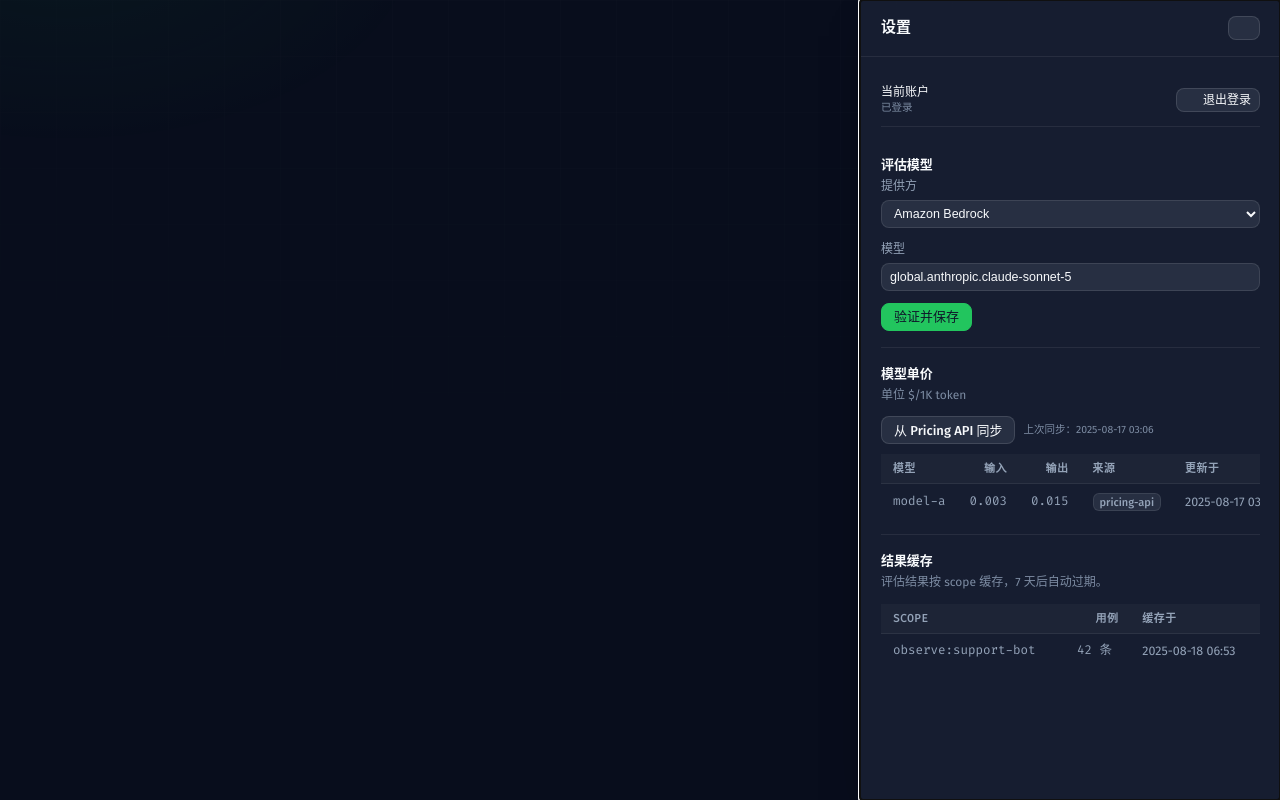
设置抽屉三分节 › set_judge_config 请求体带 config 包裹层
The width and height of the screenshot is (1280, 800).
expect the field with test id "settings-judge-model" is not empty: met, box [881,263,1260,291]
Select "OpenAI 兼容端点" in the dropdown with test id "settings-judge-provider" at (1070, 214), box [881,200,1260,228]
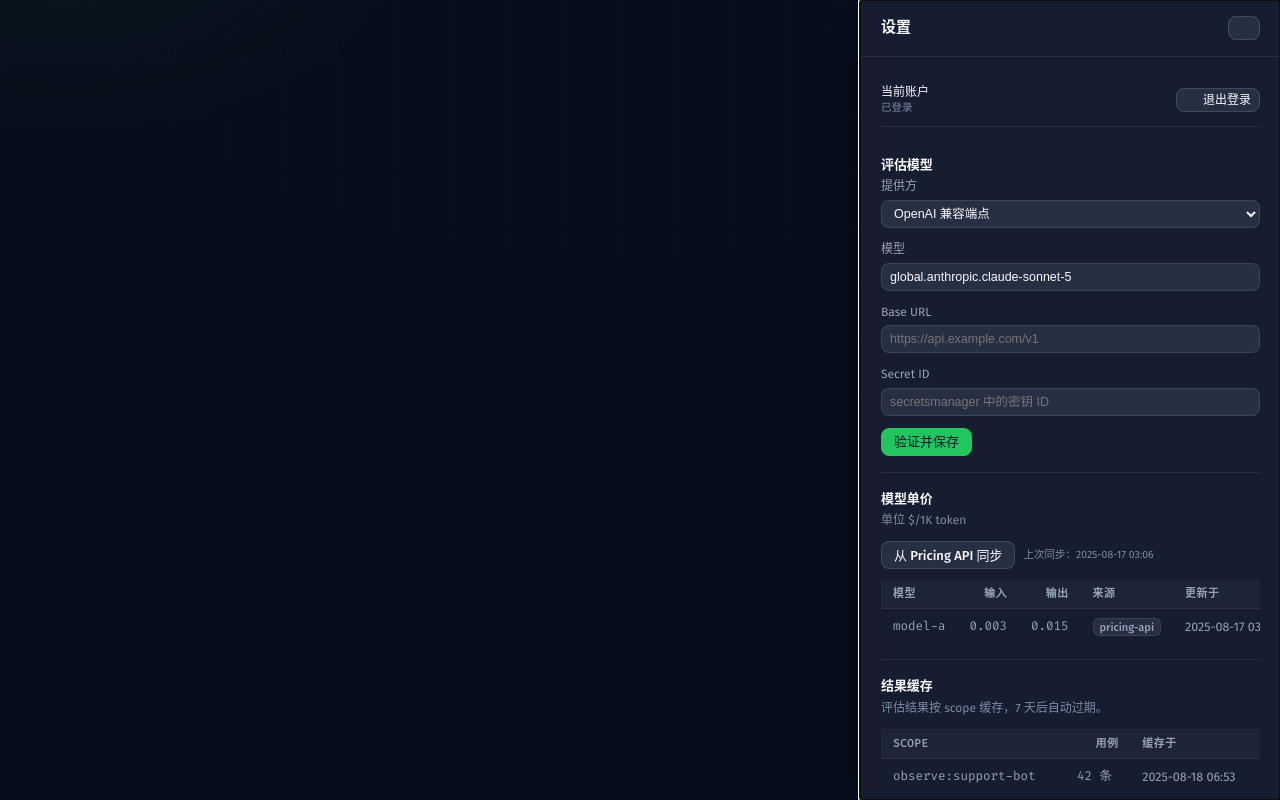
Type "gpt-4o" into the field with test id "settings-judge-model" at (1070, 277), box [881,263,1260,291]
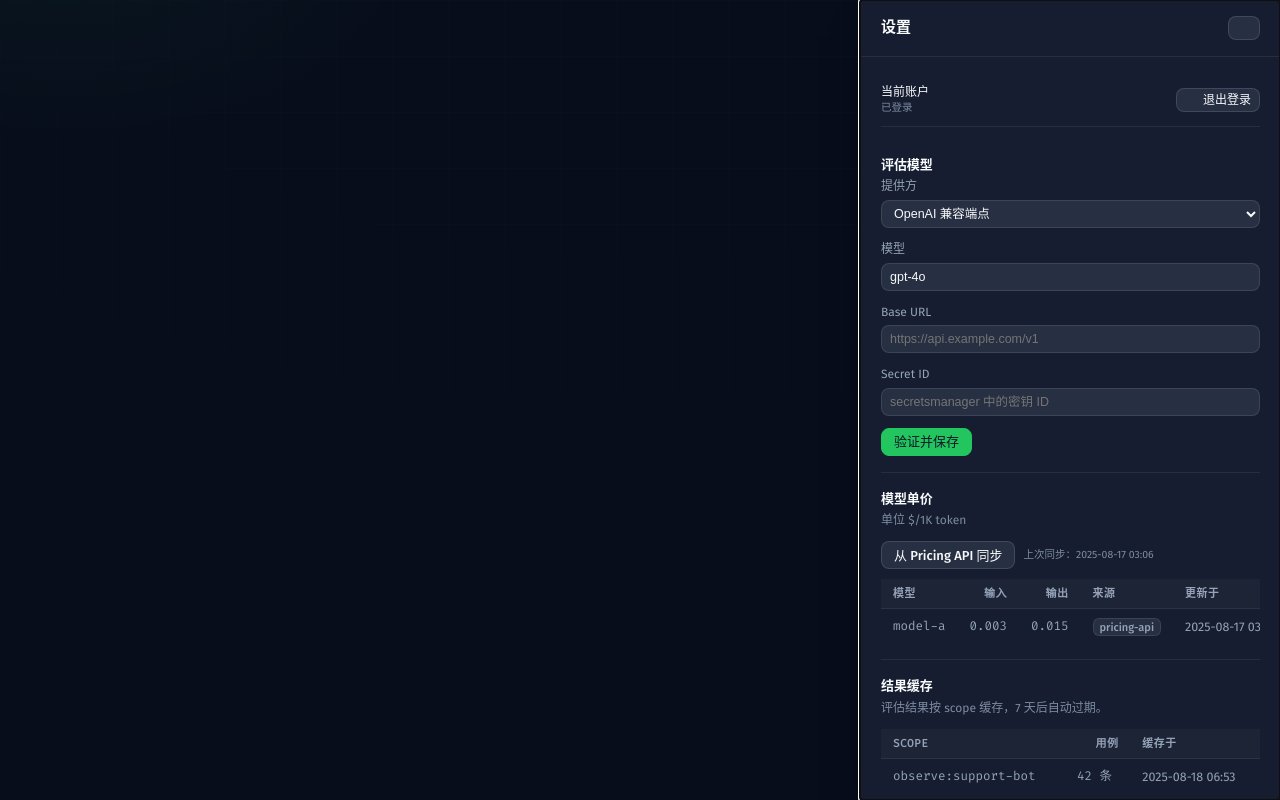
Type "https://x/v1" into the field with test id "settings-judge-base-url" at (1070, 339), box [881,325,1260,353]
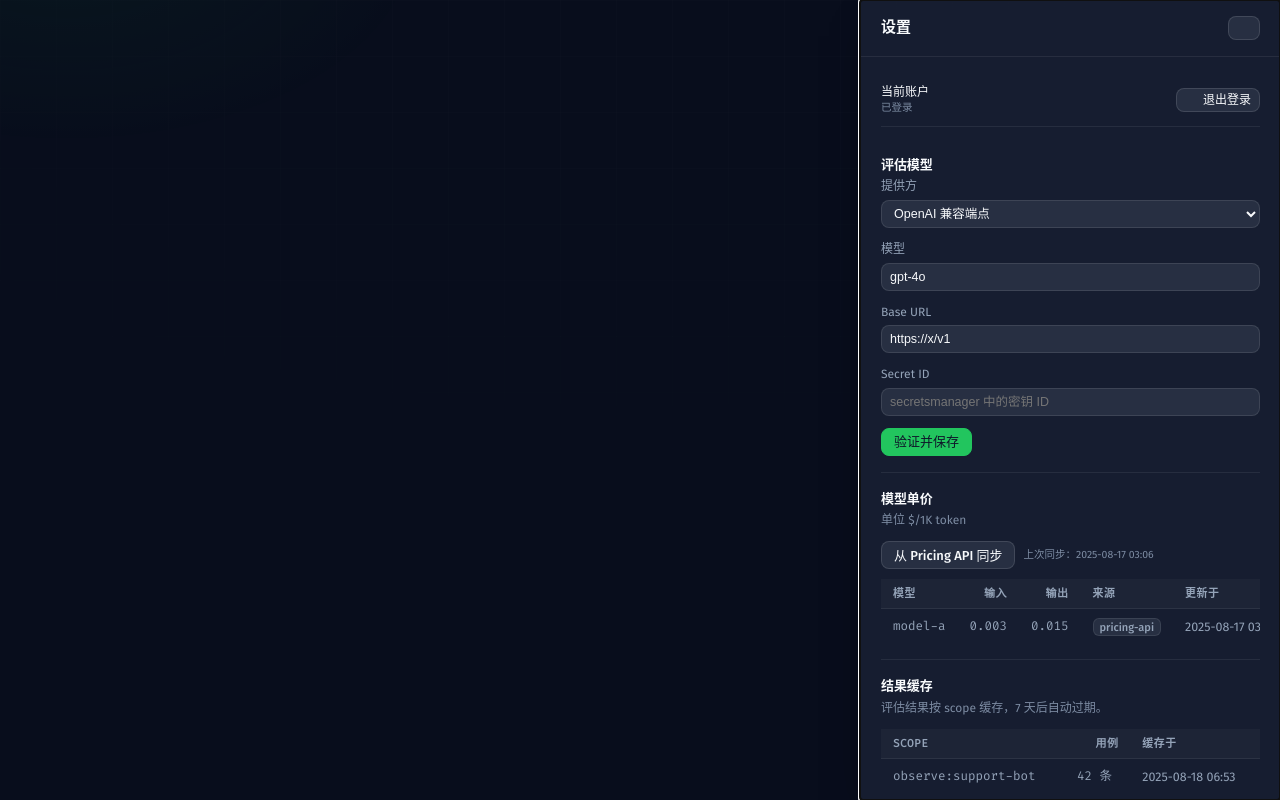
Type "sec-1" into the field with test id "settings-judge-secret-id" at (1070, 402), box [881,388,1260,416]
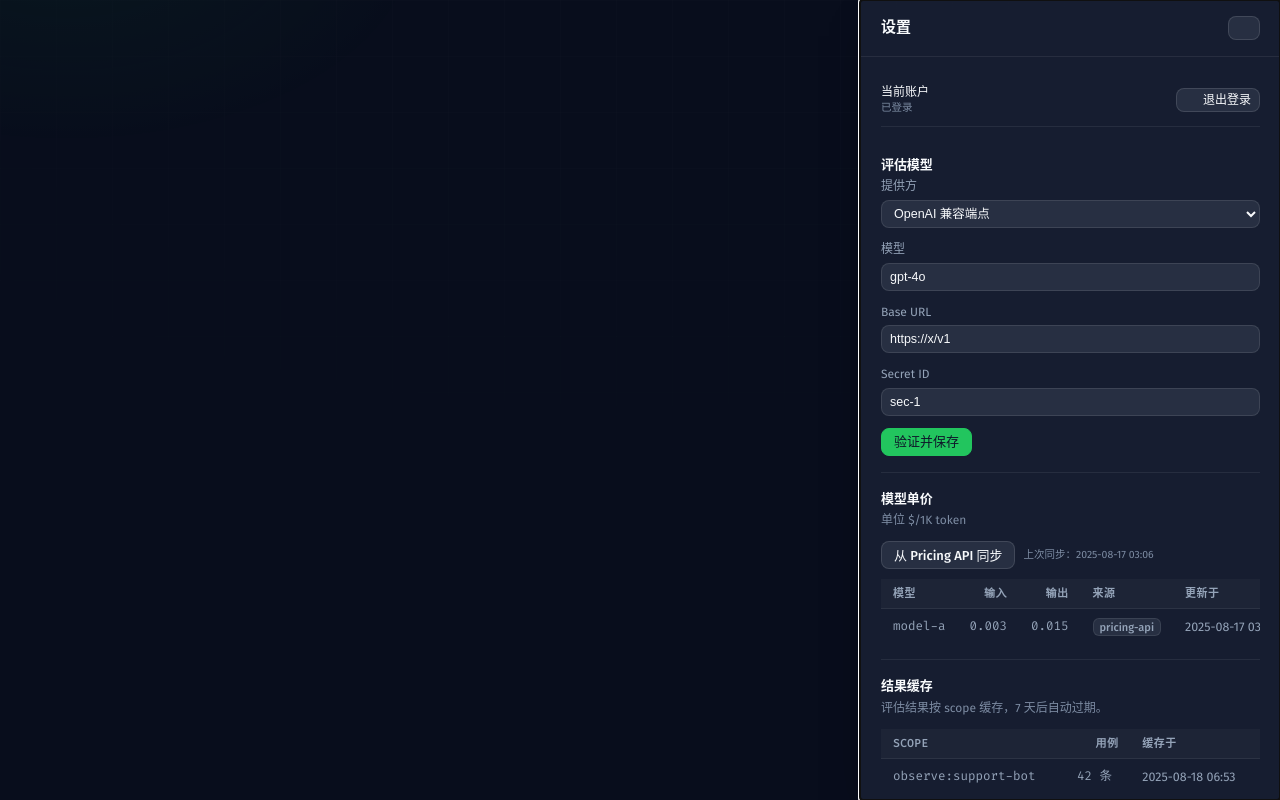
Click the button with test id "settings-judge-save" at (926, 442), box [881,428,972,456]
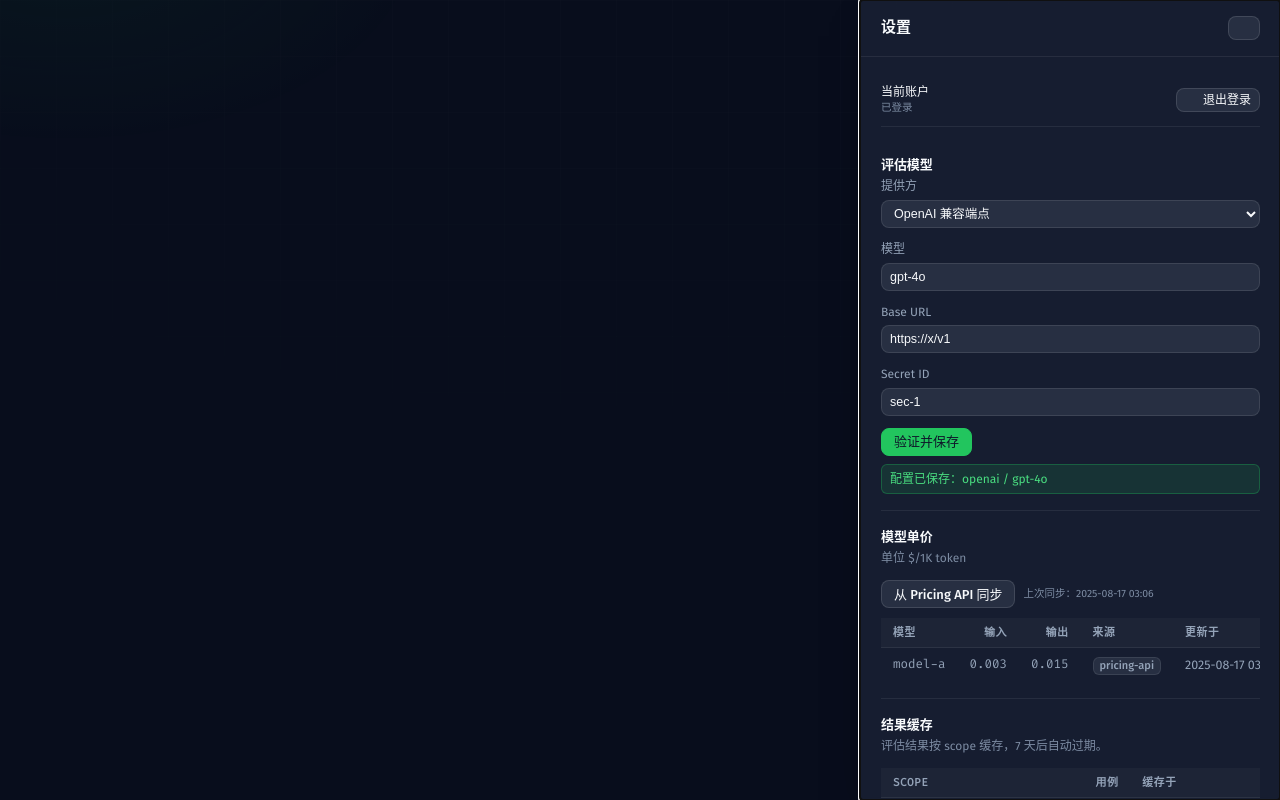
expect the message "配置已保存：openai / gpt-4o" is shown: met, box [881,464,1260,494]
